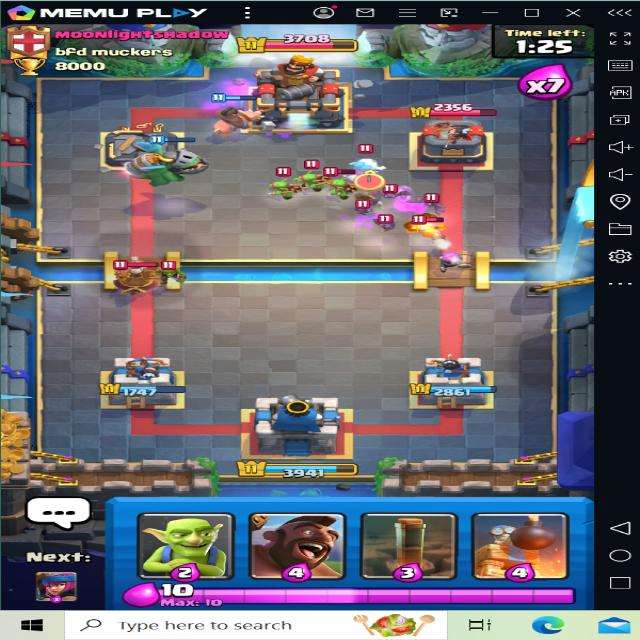bats: (412, 188, 448, 213), (347, 194, 378, 217), (369, 214, 406, 232)
goblin: (159, 258, 187, 284)
ice-spirit: (351, 146, 391, 174)
monk: (101, 254, 166, 292)
spear-goblin: (266, 162, 308, 193), (292, 155, 329, 189), (324, 170, 356, 200)
